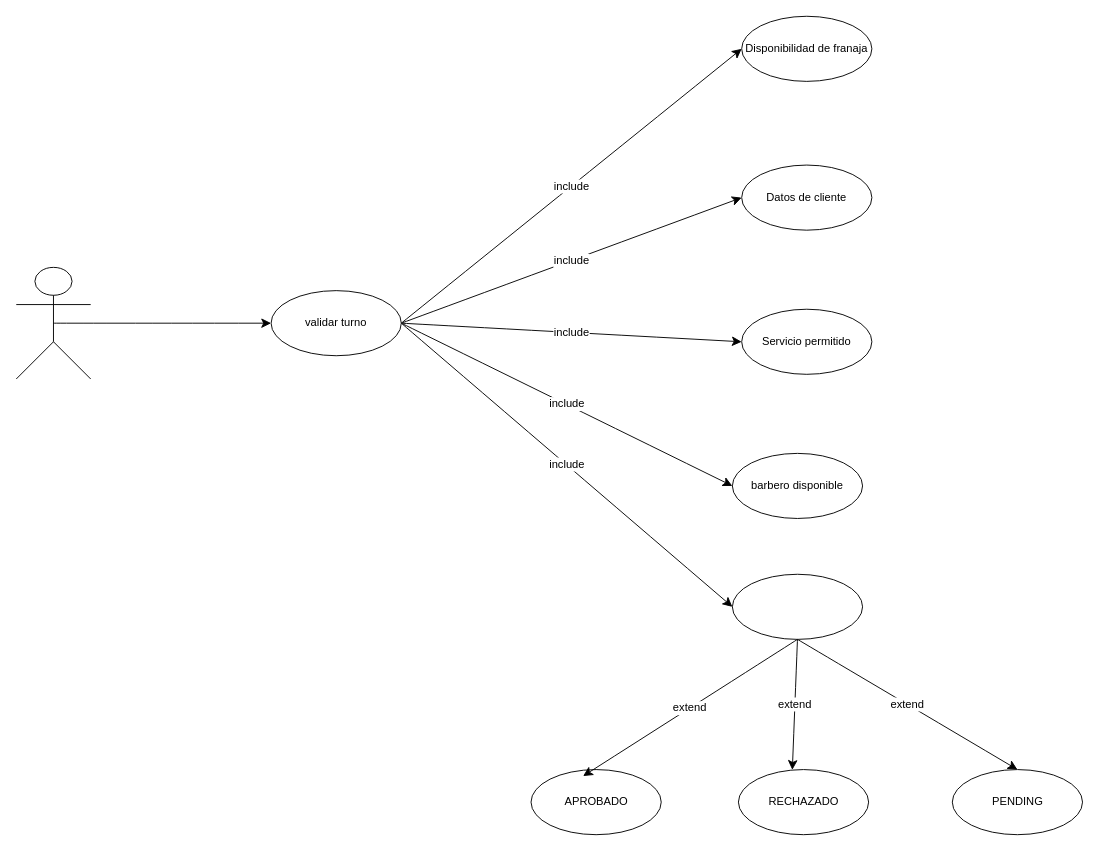
Some shapes in this 1099 by 851 pixel diagram are drawn without their labels. Here are the shapes that lost their labels. From the top down, the centre of each, then its label:
At (x=53, y=322): "Dueño".
At (x=797, y=606): "Pasarelo de pago".
